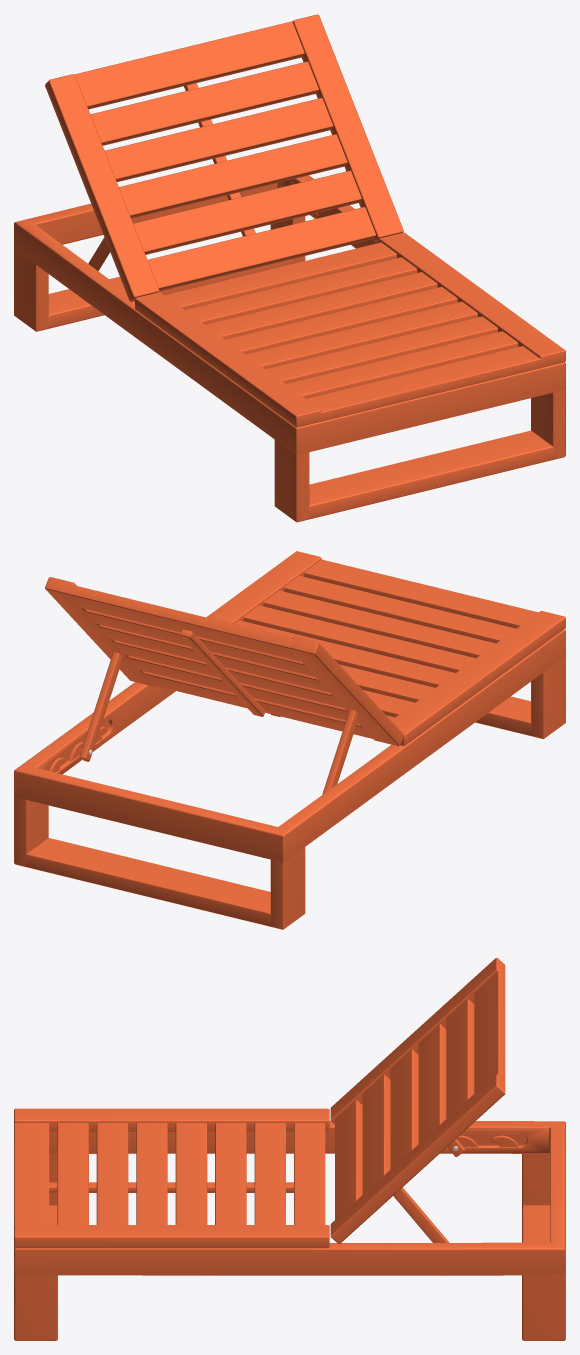
The model's file is Town_16_Outdoor_Sun_Lounger_1.glb.
3 views of the same model, one above another, from view 1: azimuth 30°, elevation 25°; view 2: azimuth 150°, elevation 25°; view 3: azimuth 270°, elevation 25° (orthographic). The views are drawn at different scales.
Visible parts, largest first — view 1: Town_16_Outdoor_Sun_Lounger_1; view 2: Town_16_Outdoor_Sun_Lounger_1; view 3: Town_16_Outdoor_Sun_Lounger_1.
Boxes of the visible parts, bbox=[...] form: Town_16_Outdoor_Sun_Lounger_1: bbox=[14, 14, 565, 522]; Town_16_Outdoor_Sun_Lounger_1: bbox=[14, 551, 565, 929]; Town_16_Outdoor_Sun_Lounger_1: bbox=[14, 958, 565, 1340].
Size of the model in its own units: 1.23 by 1.14 by 2.23.
1 material, 1 textured.
